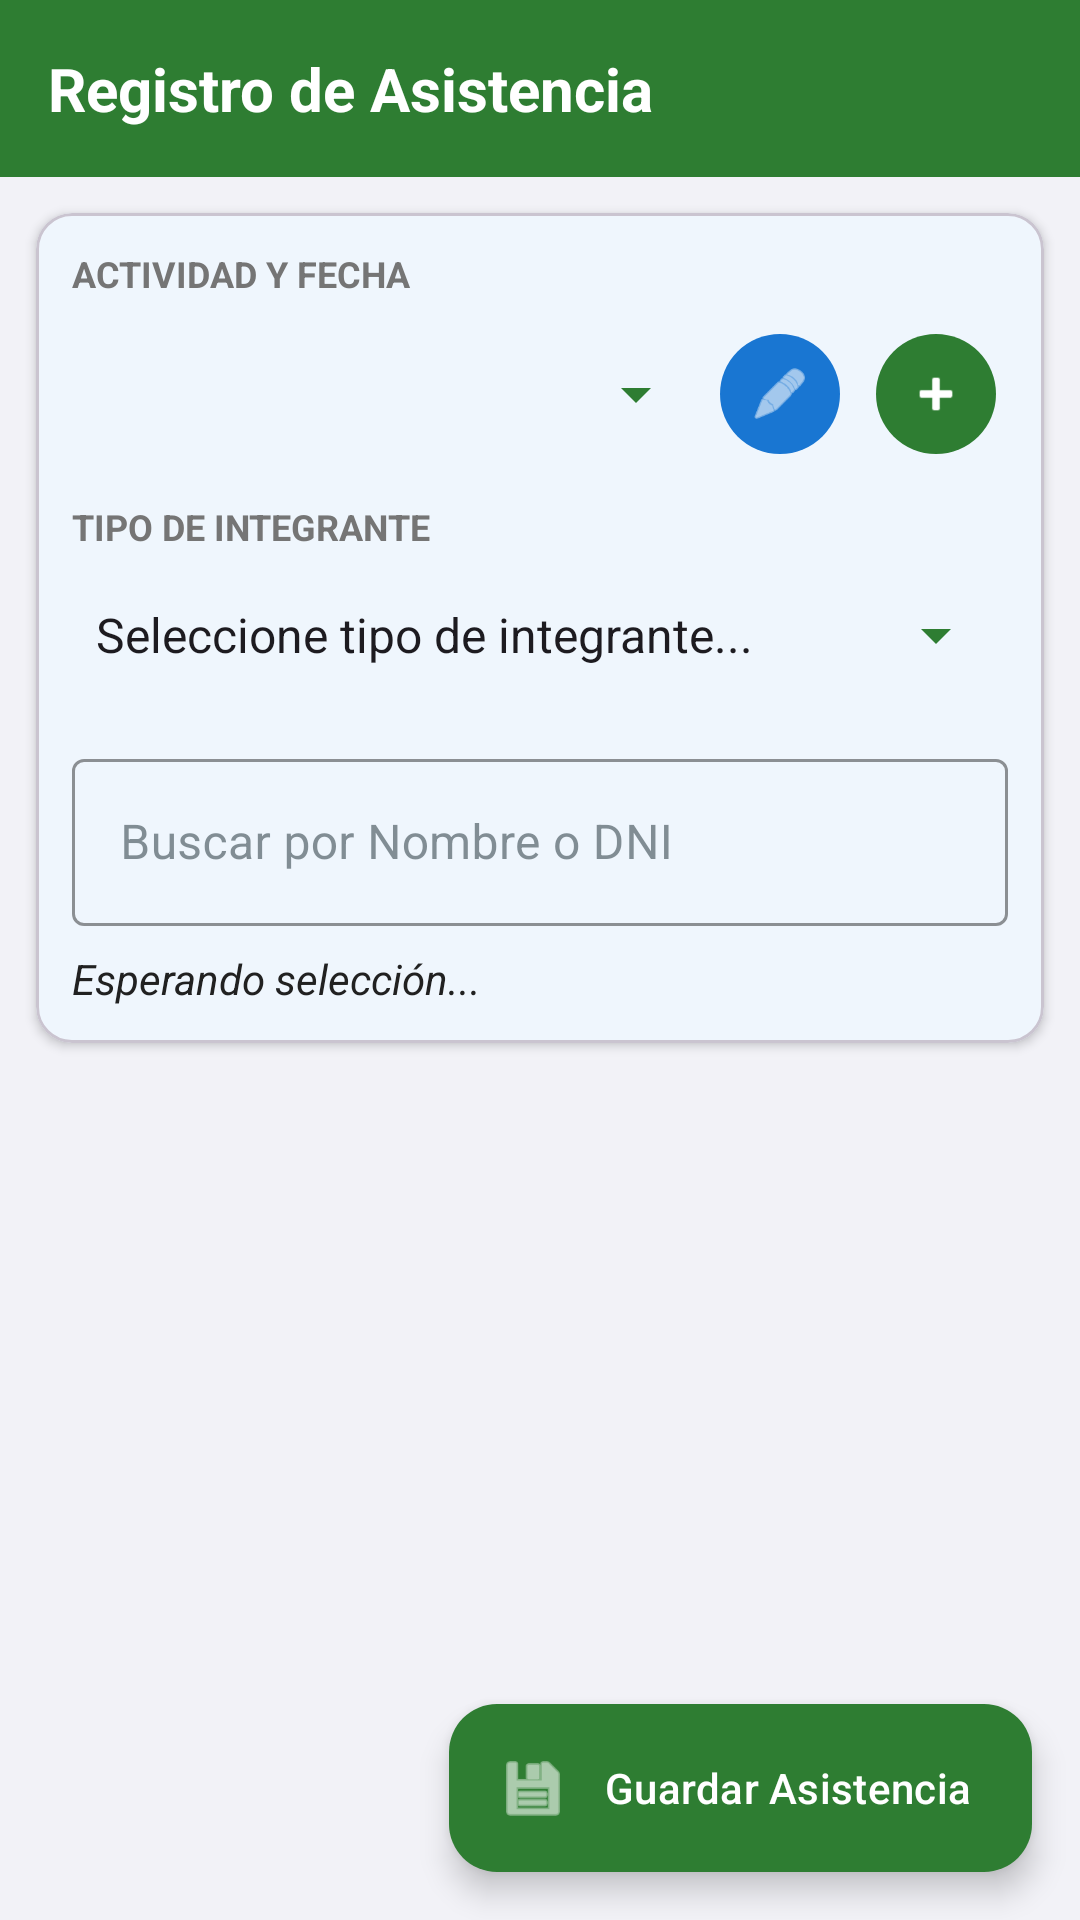

Icons on this 1080 × 1920 Android screen, each with the point to tap as (x,y):
add: (936,394)
edit: (780,394)
